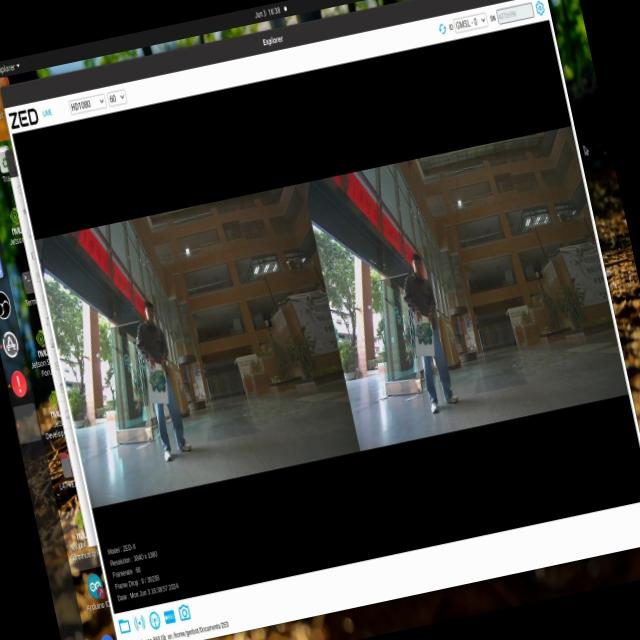green: (144, 360, 178, 400), (411, 318, 436, 352)
